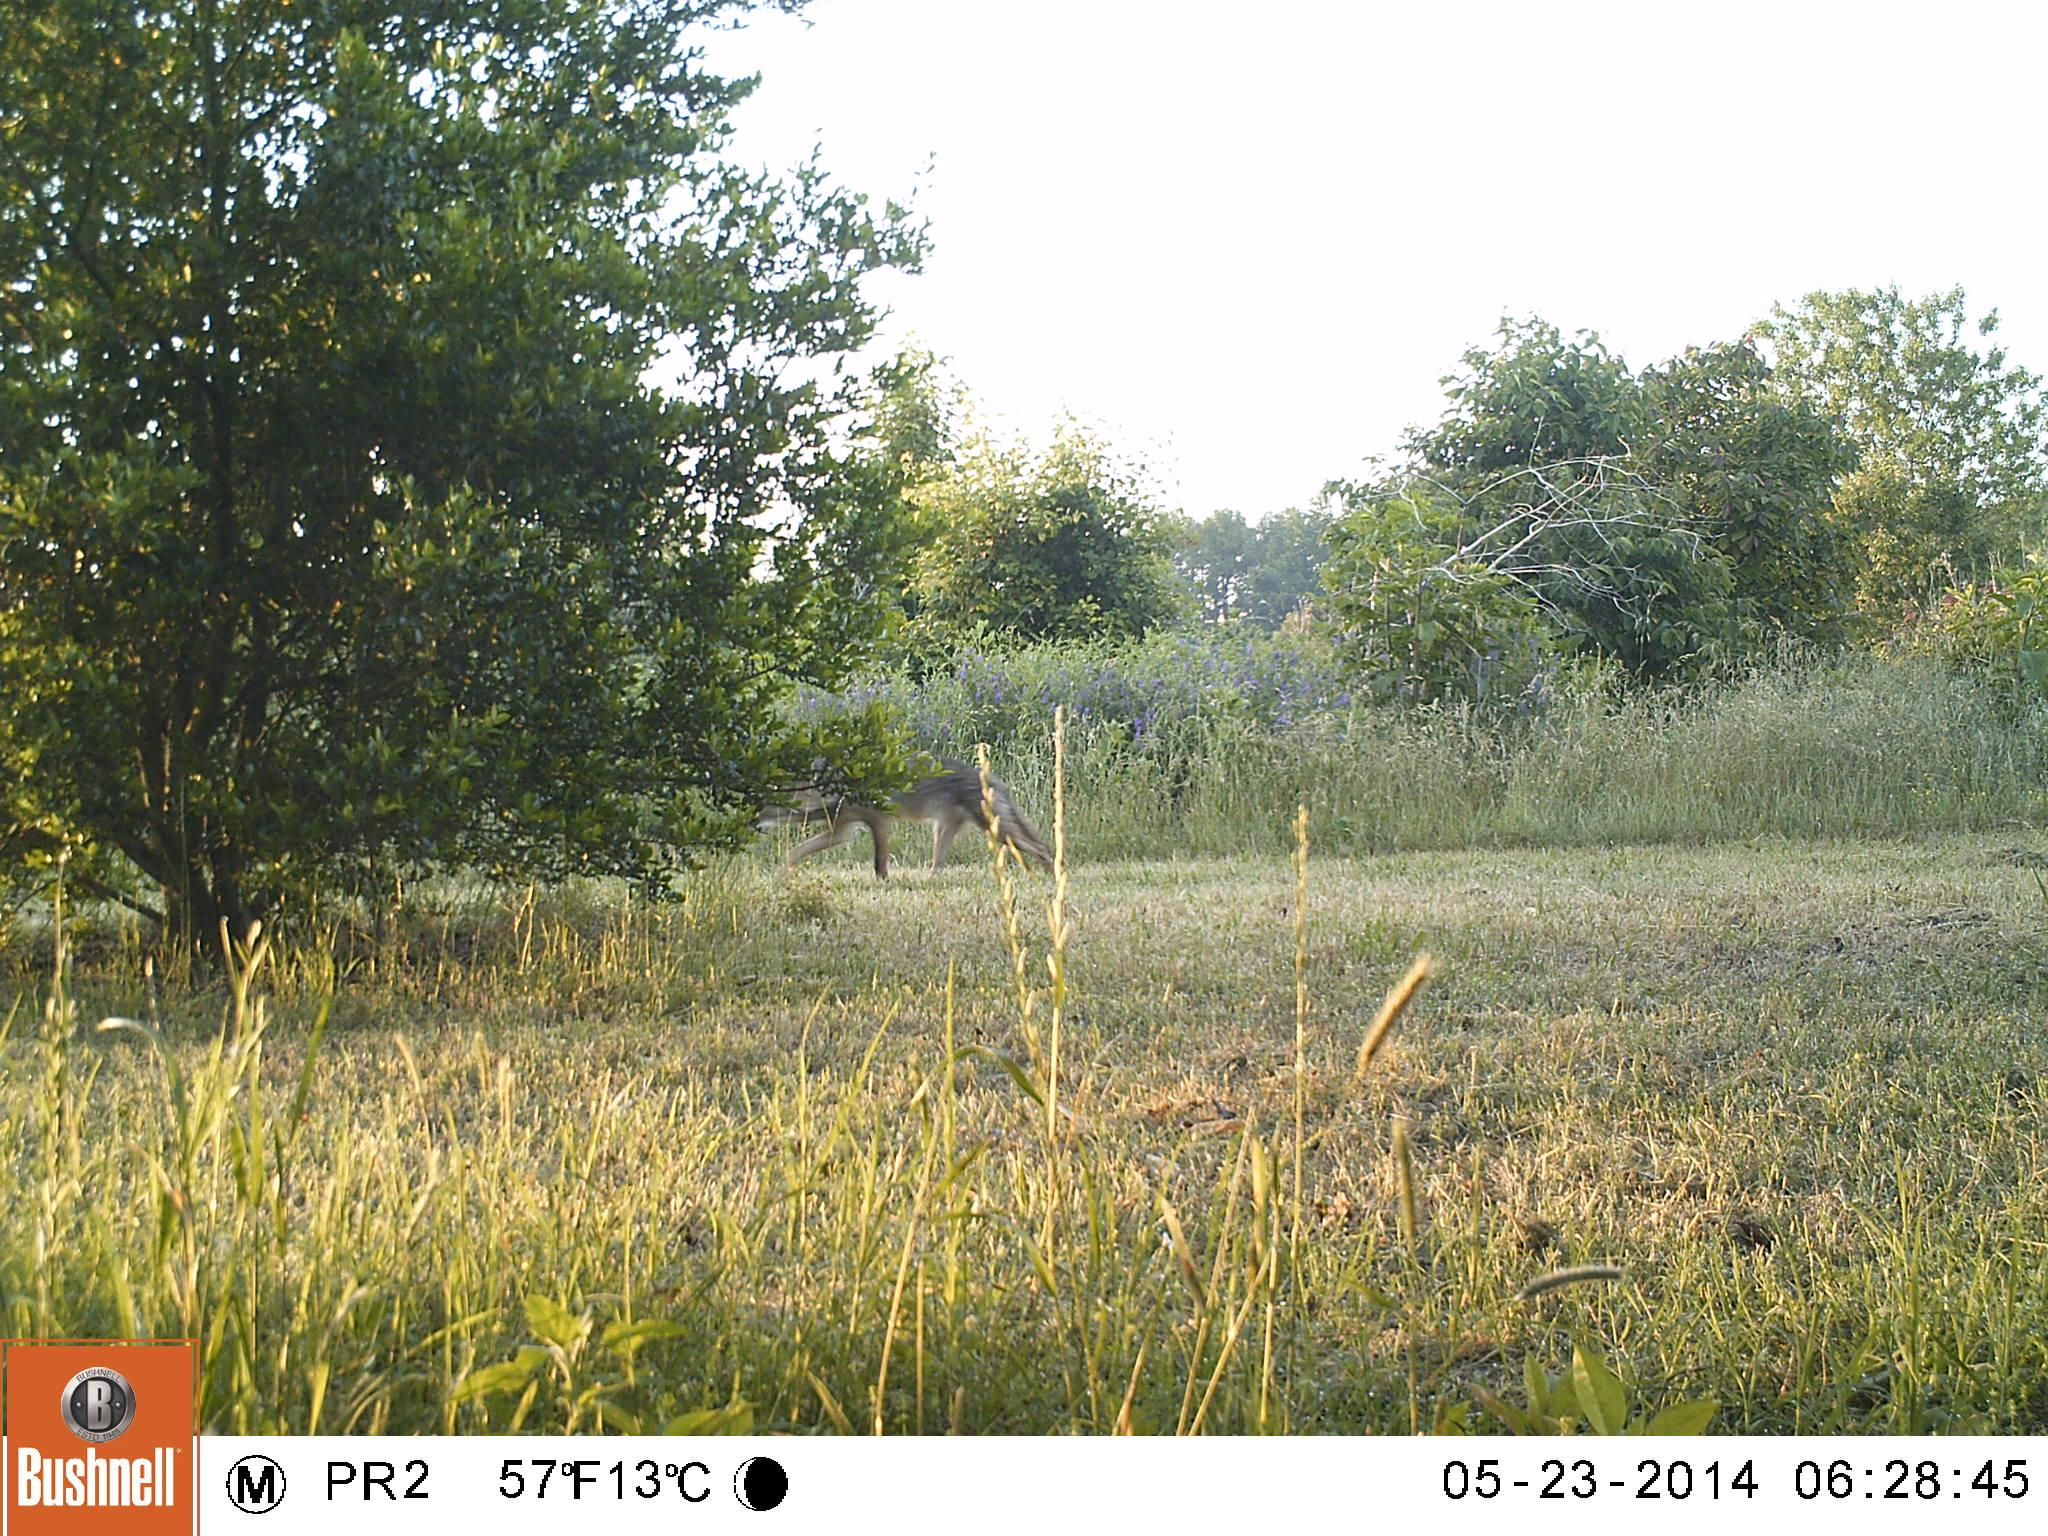Animal: (748, 753, 1056, 891)
